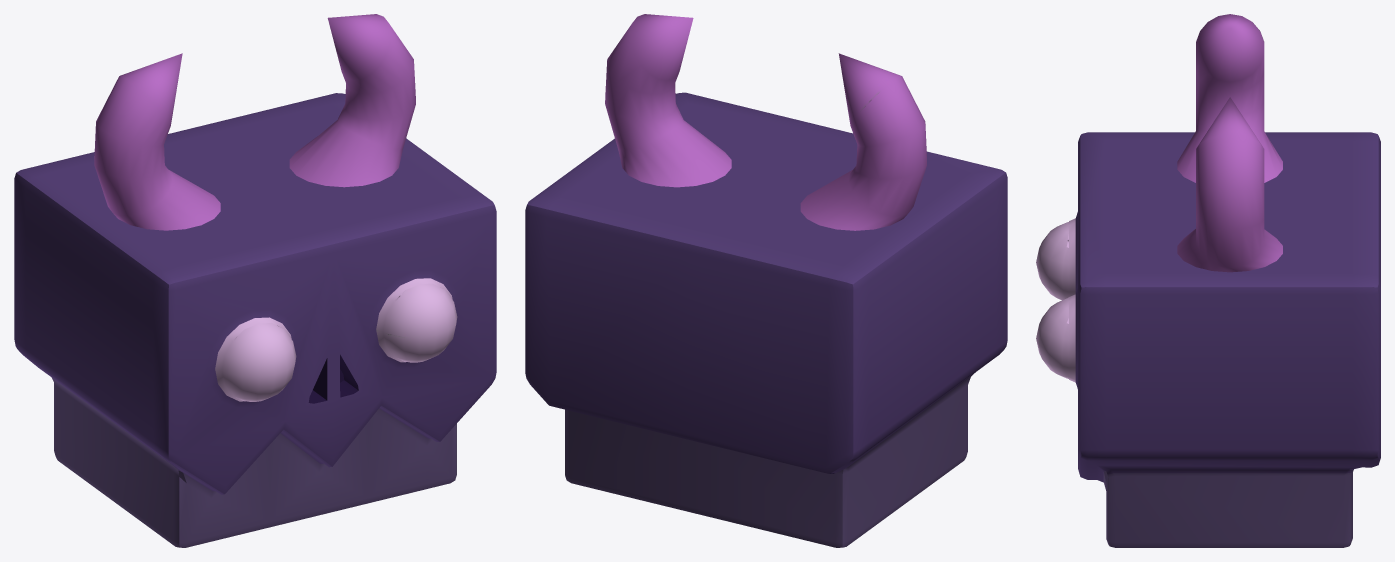
The model's file is enemy.fbx.
3 views of the same model, side by side, from view 1: azimuth 30°, elevation 25°; view 2: azimuth 150°, elevation 25°; view 3: azimuth 270°, elevation 25° (orthographic). The views are drawn at different scales.
Parts seen in each view (by area): view 1: Box002; view 2: Box002; view 3: Box002.
Boxes of the visible parts, box(x1,y1,x2,y2) form: Box002: box(14, 14, 496, 547); Box002: box(525, 14, 1007, 547); Box002: box(1036, 14, 1380, 547).
Size of the model in its own units: 39.6 by 49.71 by 36.83.
Materials: 1 (1 with a texture image).
